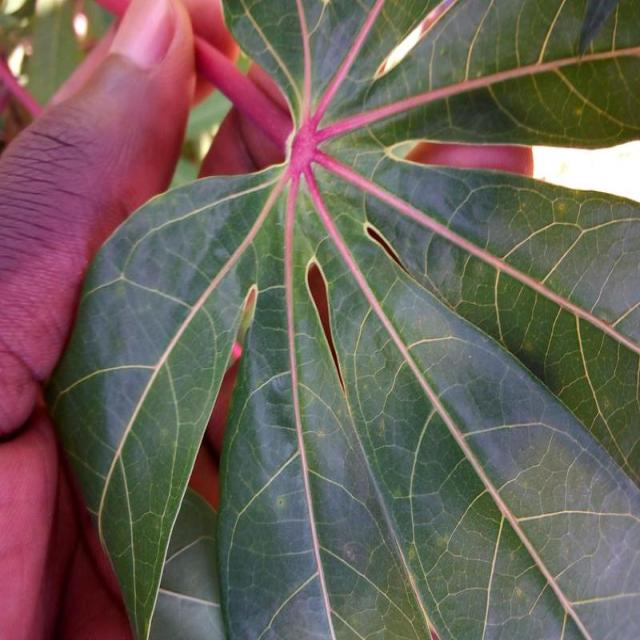cassava leaf: (44, 0, 638, 638)
